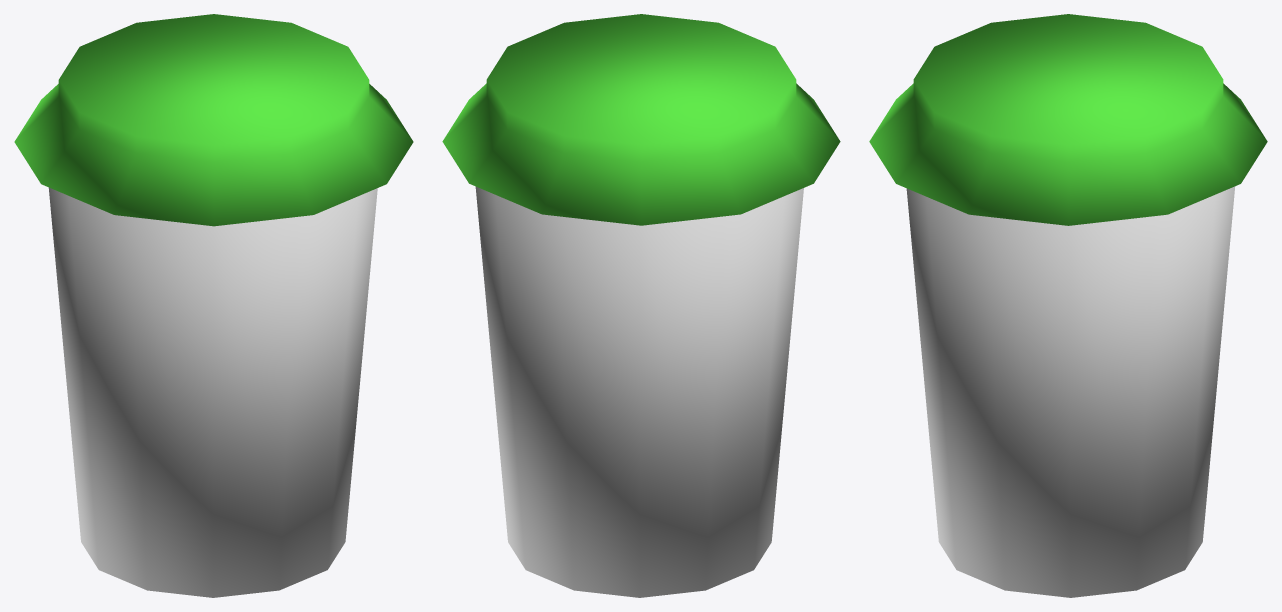
The model's file is cup.glb.
The picture shows the model from 3 angles, left to right: view 1: azimuth 30°, elevation 25°; view 2: azimuth 150°, elevation 25°; view 3: azimuth 270°, elevation 25°; orthographic projection.
Visible parts, largest first — view 1: Cylinder.001, Cylinder.002; view 2: Cylinder.001, Cylinder.002; view 3: Cylinder.001, Cylinder.002.
Part boxes in pixels (box(x1,y1,x2,y2)): Cylinder.001: box(48, 187, 377, 597); Cylinder.002: box(14, 14, 413, 226); Cylinder.001: box(475, 186, 803, 597); Cylinder.002: box(442, 14, 840, 225); Cylinder.001: box(906, 186, 1235, 597); Cylinder.002: box(869, 14, 1267, 225).
Size of the model in its own units: 0.1999 by 0.256 by 0.1999.
